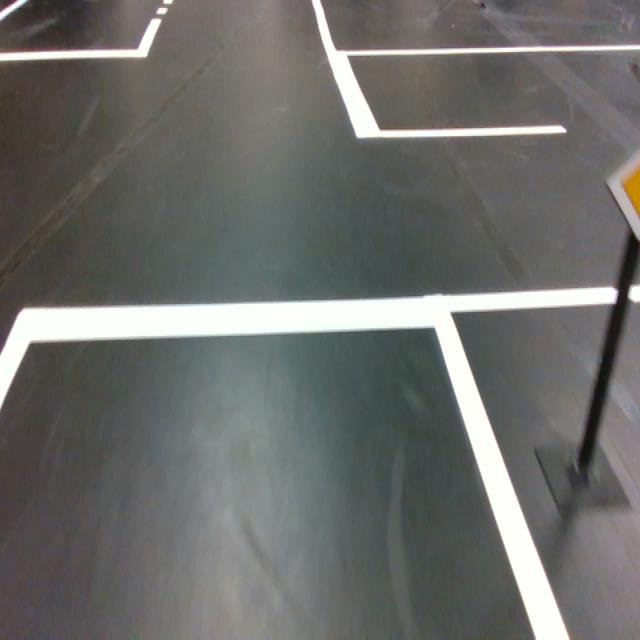priority-sign: (603, 140, 640, 251)
